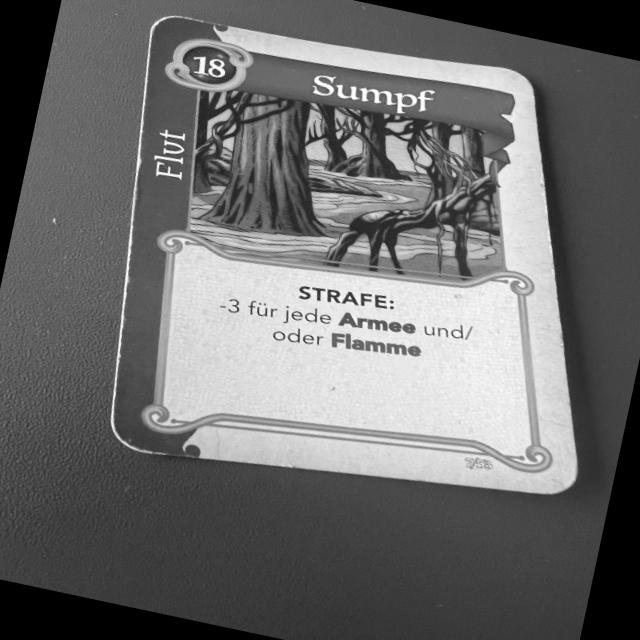Swamp: (109, 5, 584, 492)
